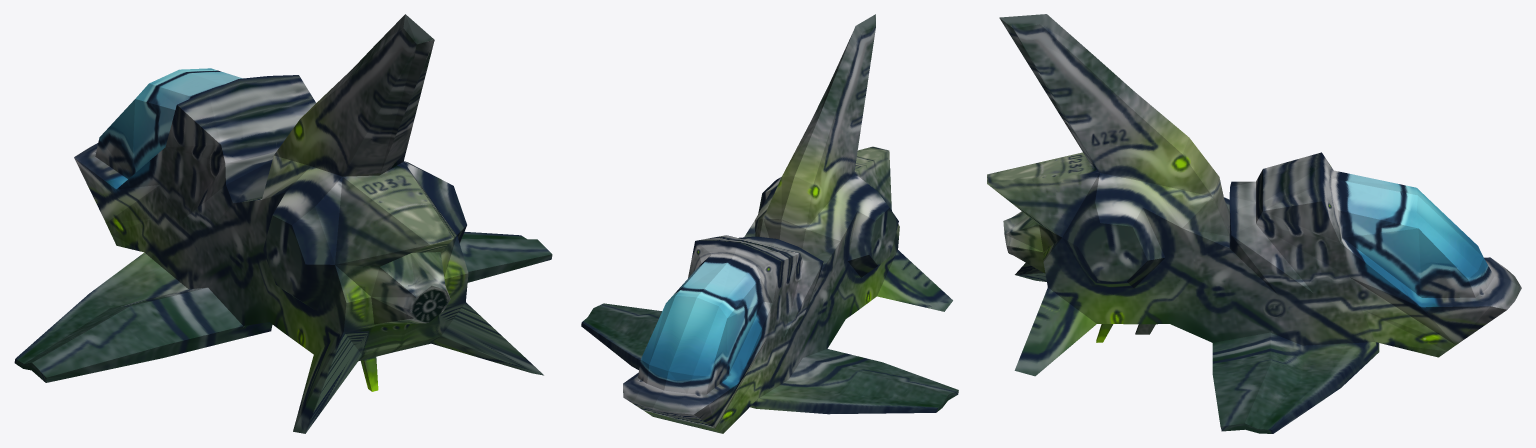
Rendered from ship.dae.
3 renders of one model, left to right at view 1: azimuth 30°, elevation 25°; view 2: azimuth 150°, elevation 25°; view 3: azimuth 270°, elevation 25°, orthographic. The views are drawn at different scales.
Visible parts, largest first — view 1: default; view 2: default; view 3: default.
Boxes of the visible parts, box(x1,y1,x2,y2) form: default: box(14, 14, 552, 433); default: box(581, 14, 958, 433); default: box(987, 14, 1521, 433).
Size of the model in its own units: 8.29 by 6.25 by 9.25.
